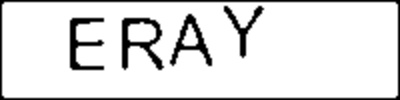A: (168, 10, 218, 70)
E: (63, 14, 111, 75)
R: (116, 13, 169, 73)
Y: (220, 4, 270, 62)
